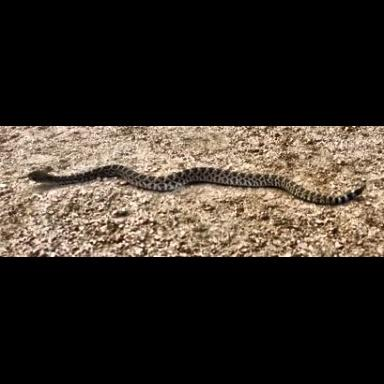snake: (27, 163, 368, 205)
